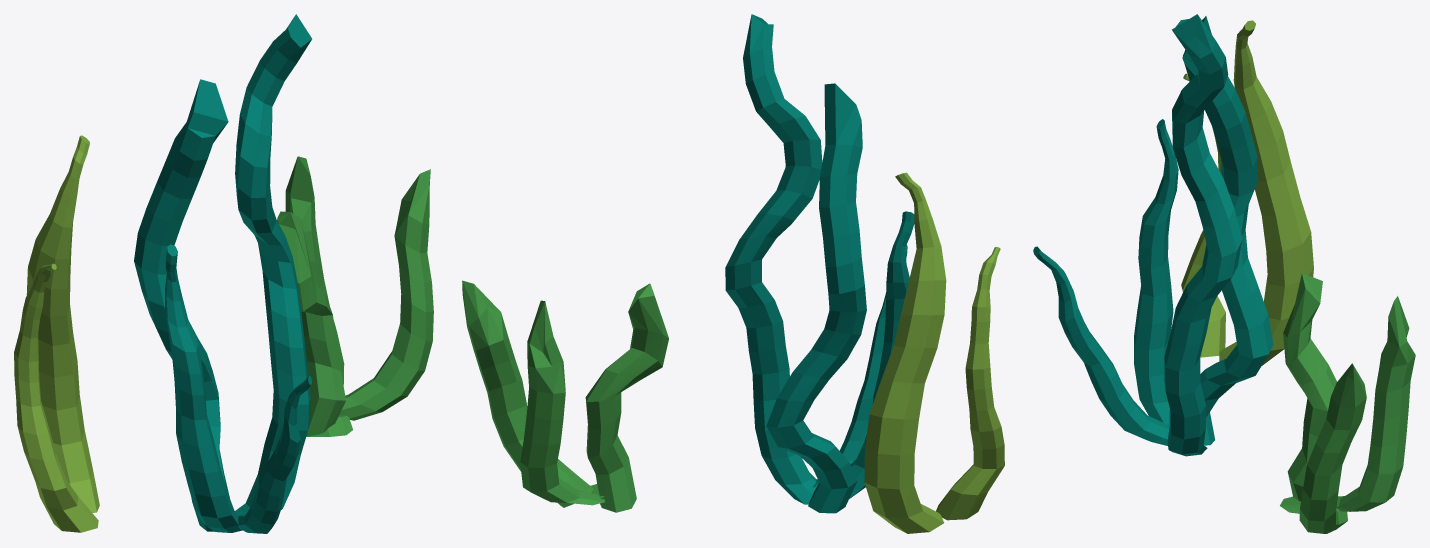
3 renders of one model, left to right at view 1: azimuth 30°, elevation 25°; view 2: azimuth 150°, elevation 25°; view 3: azimuth 270°, elevation 25°, orthographic. The views are drawn at different scales.
Parts seen in each view (by area): view 1: node_MeshObject-675790336-PolyPaper10; view 2: node_MeshObject-675790336-PolyPaper10; view 3: node_MeshObject-675790336-PolyPaper10.
Part boxes in pixels (left/top/right/bottom): node_MeshObject-675790336-PolyPaper10: left=14, top=14, right=433, bottom=533; node_MeshObject-675790336-PolyPaper10: left=462, top=14, right=1004, bottom=533; node_MeshObject-675790336-PolyPaper10: left=1033, top=14, right=1415, bottom=533.
Bounding box in the file's own units: 0.8397 × 0.8166 × 0.6106.
